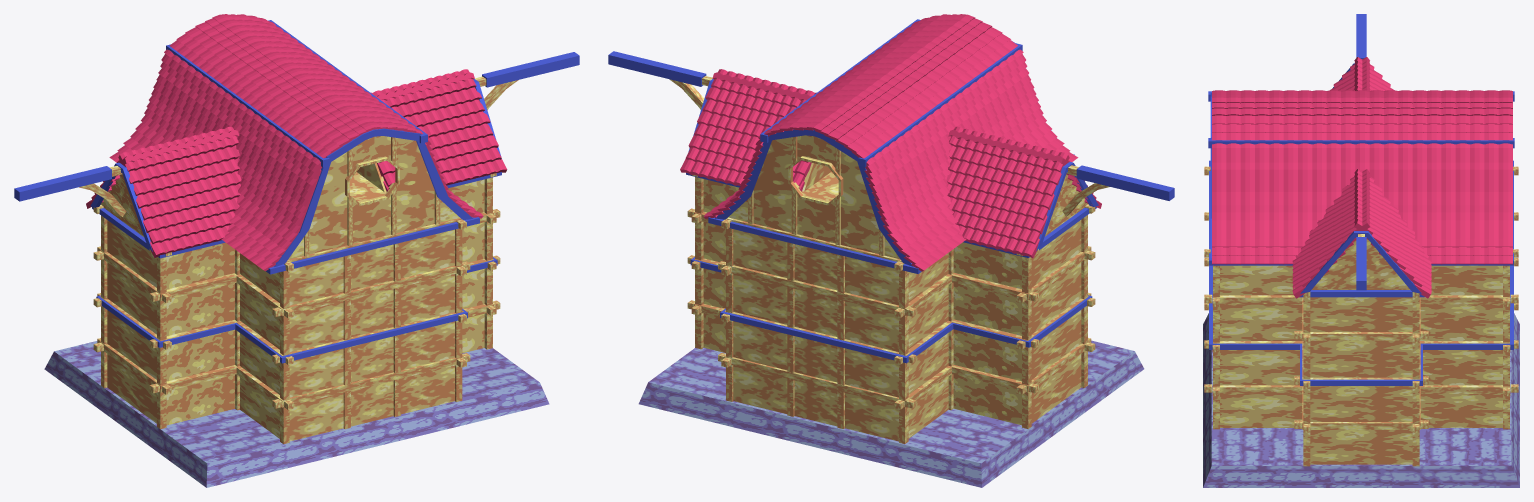
The model's file is building#4.fbx.
The picture shows the model from 3 angles, left to right: view 1: azimuth 30°, elevation 25°; view 2: azimuth 150°, elevation 25°; view 3: azimuth 270°, elevation 25°; orthographic projection. The views are drawn at different scales.
Parts seen in each view (by area): view 1: wall1.001, roof tiles.003, stone bottom, roof tiles.001, grapple, wall1, wall1.003, block sepeeeereator, support beams, Cube, block sepeeeereator.009, support beams.005 (+1 smaller); view 2: wall1.001, roof tiles.003, stone bottom, roof tiles.001, grapple, wall1, wall1.003, block sepeeeereator, support beams, Cube, block sepeeeereator.009, support beams.005 (+1 smaller); view 3: roof tiles.003, wall1.001, stone bottom, wall1, roof tiles.001, grapple, block sepeeeereator, Cube, support beams, wooden nub.
Part boxes in pixels (left/top/right/bottom): wall1.001: left=93, top=170, right=500, bottom=400; roof tiles.003: left=109, top=14, right=483, bottom=271; stone bottom: left=44, top=341, right=549, bottom=487; roof tiles.001: left=86, top=69, right=507, bottom=257; grapple: left=14, top=20, right=579, bottom=363; wall1: left=107, top=313, right=484, bottom=441; wall1.003: left=288, top=136, right=459, bottom=259; block sepeeeereator: left=100, top=304, right=493, bottom=407; support beams: left=101, top=313, right=492, bottom=444; Cube: left=101, top=163, right=386, bottom=235; block sepeeeereator.009: left=304, top=183, right=440, bottom=256; support beams.005: left=79, top=80, right=518, bottom=216; wall1.001: left=687, top=171, right=1095, bottom=400; roof tiles.003: left=703, top=14, right=1078, bottom=271; stone bottom: left=638, top=340, right=1144, bottom=487; roof tiles.001: left=680, top=69, right=1101, bottom=258; grapple: left=608, top=19, right=1174, bottom=363; wall1: left=703, top=313, right=1081, bottom=441; wall1.003: left=728, top=135, right=899, bottom=259; block sepeeeereator: left=694, top=304, right=1088, bottom=407; support beams: left=695, top=313, right=1087, bottom=443; Cube: left=802, top=163, right=1087, bottom=234; block sepeeeereator.009: left=748, top=182, right=884, bottom=256; support beams.005: left=669, top=79, right=1109, bottom=216; roof tiles.003: left=1212, top=90, right=1512, bottom=264; wall1.001: left=1204, top=166, right=1518, bottom=423; stone bottom: left=1203, top=313, right=1519, bottom=487; wall1: left=1220, top=394, right=1502, bottom=464; roof tiles.001: left=1292, top=57, right=1431, bottom=298; grapple: left=1208, top=14, right=1514, bottom=385; block sepeeeereator: left=1213, top=385, right=1509, bottom=429; Cube: left=1313, top=239, right=1408, bottom=288; support beams: left=1213, top=396, right=1509, bottom=466; wooden nub: left=1204, top=303, right=1518, bottom=428.
Size of what is drawn, in the model's own units: 8454 by 4557 by 4241.
